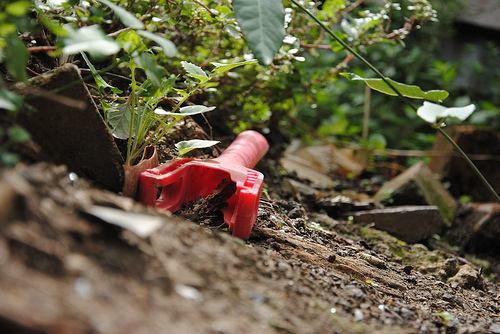litter: (140, 130, 268, 237)
